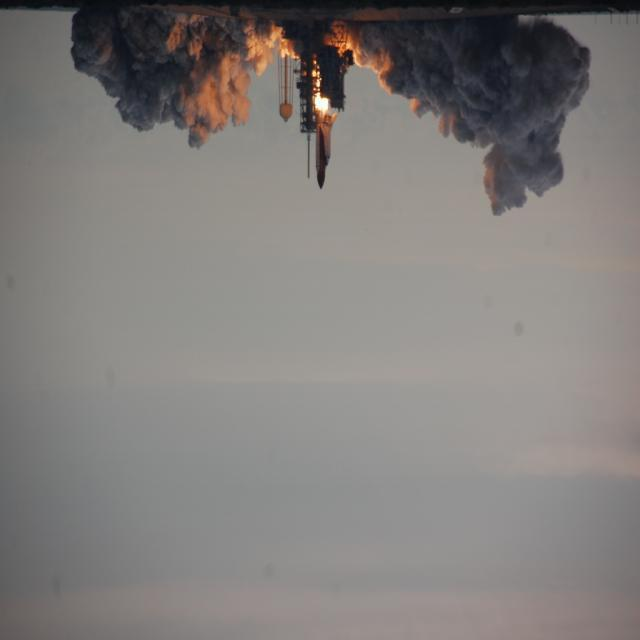missile: (309, 93, 344, 192)
